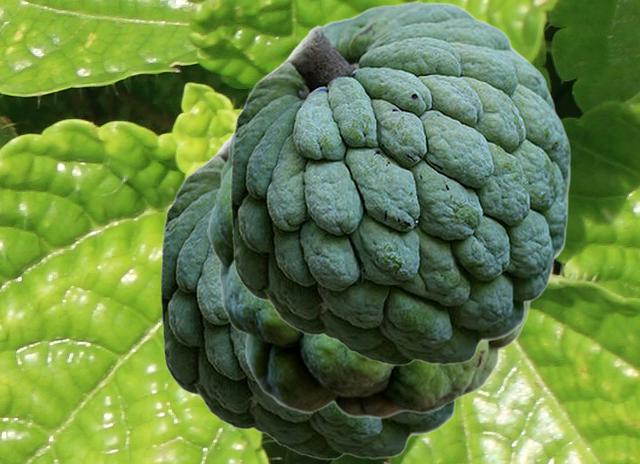atis: (230, 1, 570, 365), (160, 132, 461, 459), (207, 126, 534, 419)
